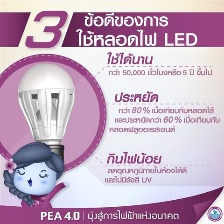light_bulb: (15, 61, 77, 172)
